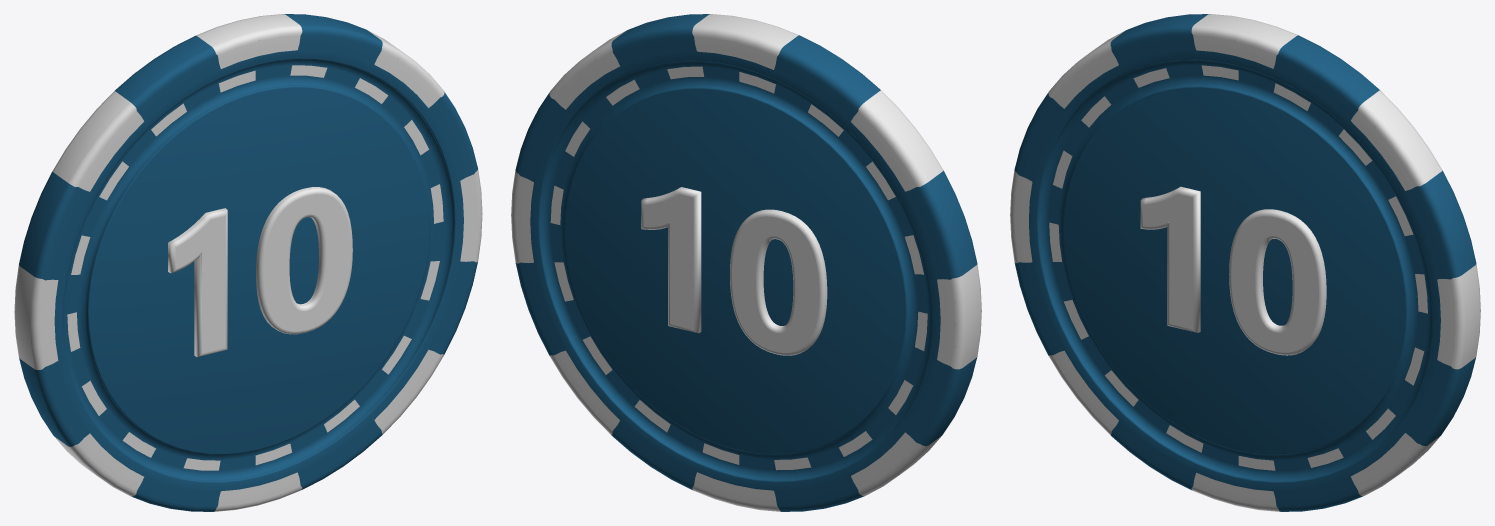
The model's file is poker_chip_10.glb.
3 views of the same model, side by side, from view 1: azimuth 30°, elevation 25°; view 2: azimuth 150°, elevation 25°; view 3: azimuth 330°, elevation 25° (orthographic).
Visible parts, largest first — view 1: Text.002_0; view 2: Text.002_0; view 3: Text.002_0.
Part boxes in pixels (left/top/right/bottom): Text.002_0: left=14, top=14, right=482, bottom=511; Text.002_0: left=511, top=14, right=981, bottom=511; Text.002_0: left=1010, top=14, right=1480, bottom=511.
Size of the model in its own units: 0.2401 by 0.24 by 0.0277.
